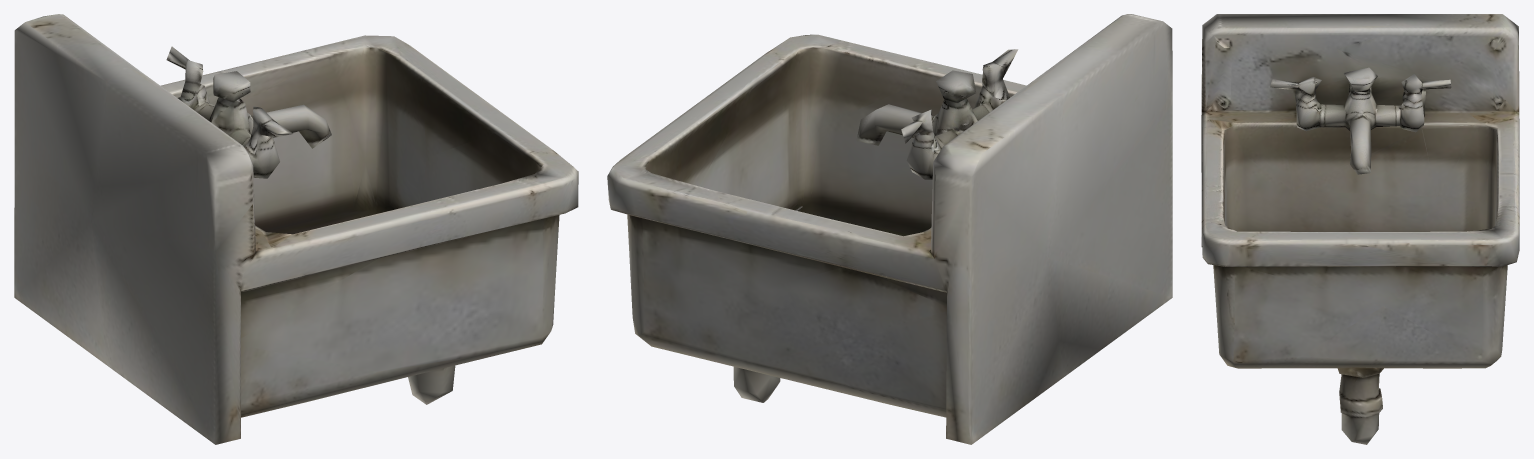
File: tripo_convert_2c32615b-1f32-4d14-92a8-f843195b6b75.fbx
3 views of the same model, side by side, from view 1: azimuth 30°, elevation 25°; view 2: azimuth 150°, elevation 25°; view 3: azimuth 270°, elevation 25° (orthographic). The views are drawn at different scales.
Visible parts, largest first — view 1: tripo_node_2c32615b; view 2: tripo_node_2c32615b; view 3: tripo_node_2c32615b.
Boxes of the visible parts, x1,y1,x2,y2 form: tripo_node_2c32615b: (14, 14, 578, 444); tripo_node_2c32615b: (607, 14, 1172, 444); tripo_node_2c32615b: (1201, 14, 1519, 444).
Size of the model in its own units: 0.9998 by 0.9897 by 0.9298.
Materials: 1 (1 with a texture image).
